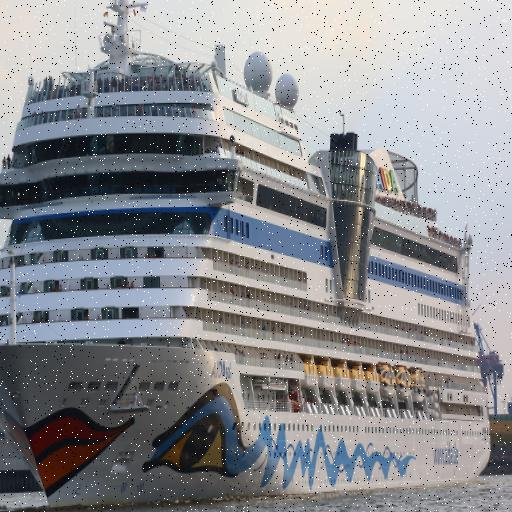cruises: (1, 1, 498, 512)
